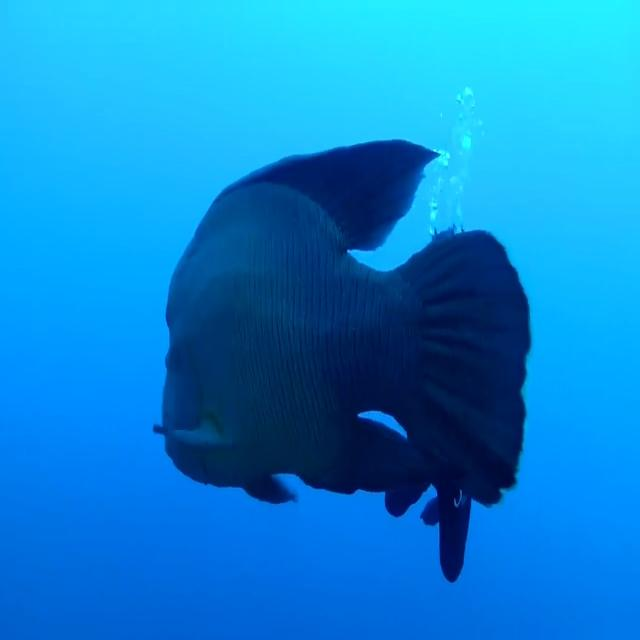Napoleon -Endangered-: (162, 142, 531, 505)
